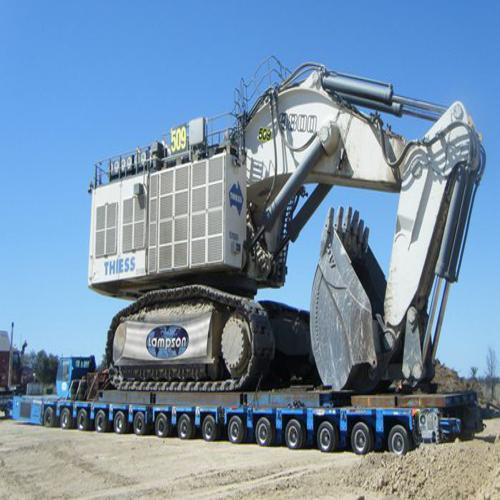con_eq: (89, 72, 487, 410)
